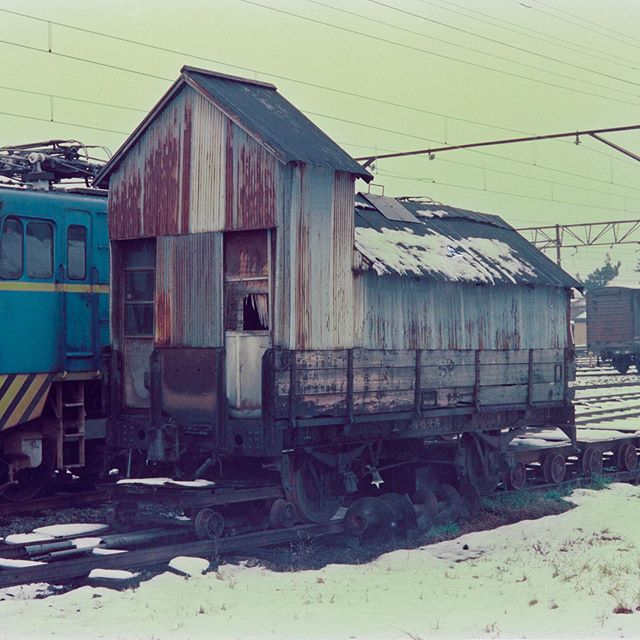building: (120, 66, 580, 497)
sky: (1, 1, 622, 175)
train: (132, 180, 587, 521)
